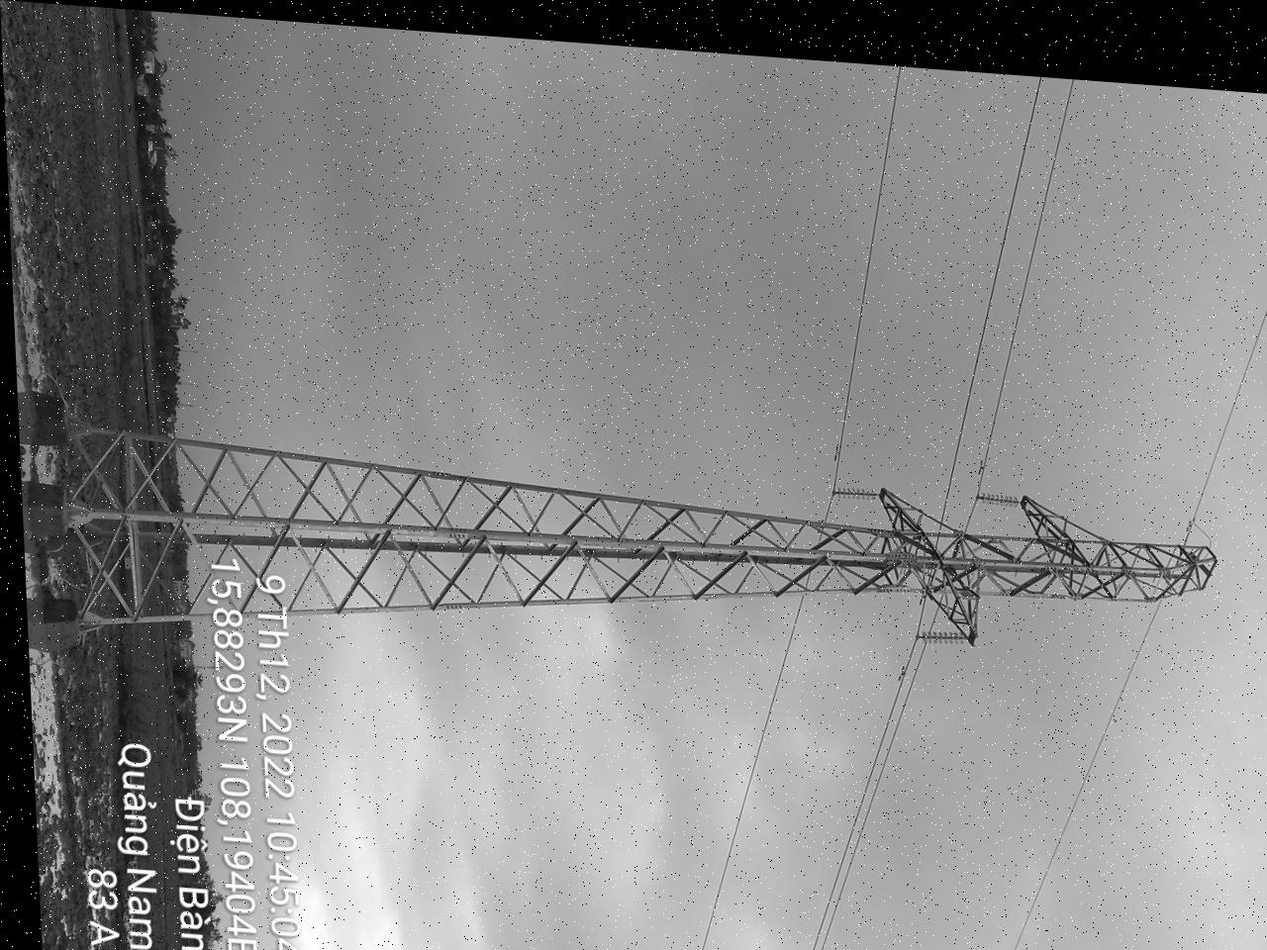tower: (673, 50, 913, 950)
